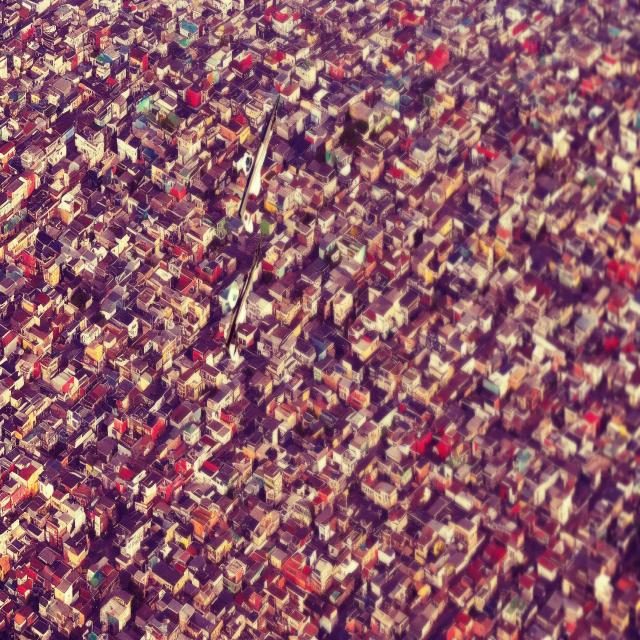airplane: (239, 103, 282, 235), (225, 234, 263, 350)
